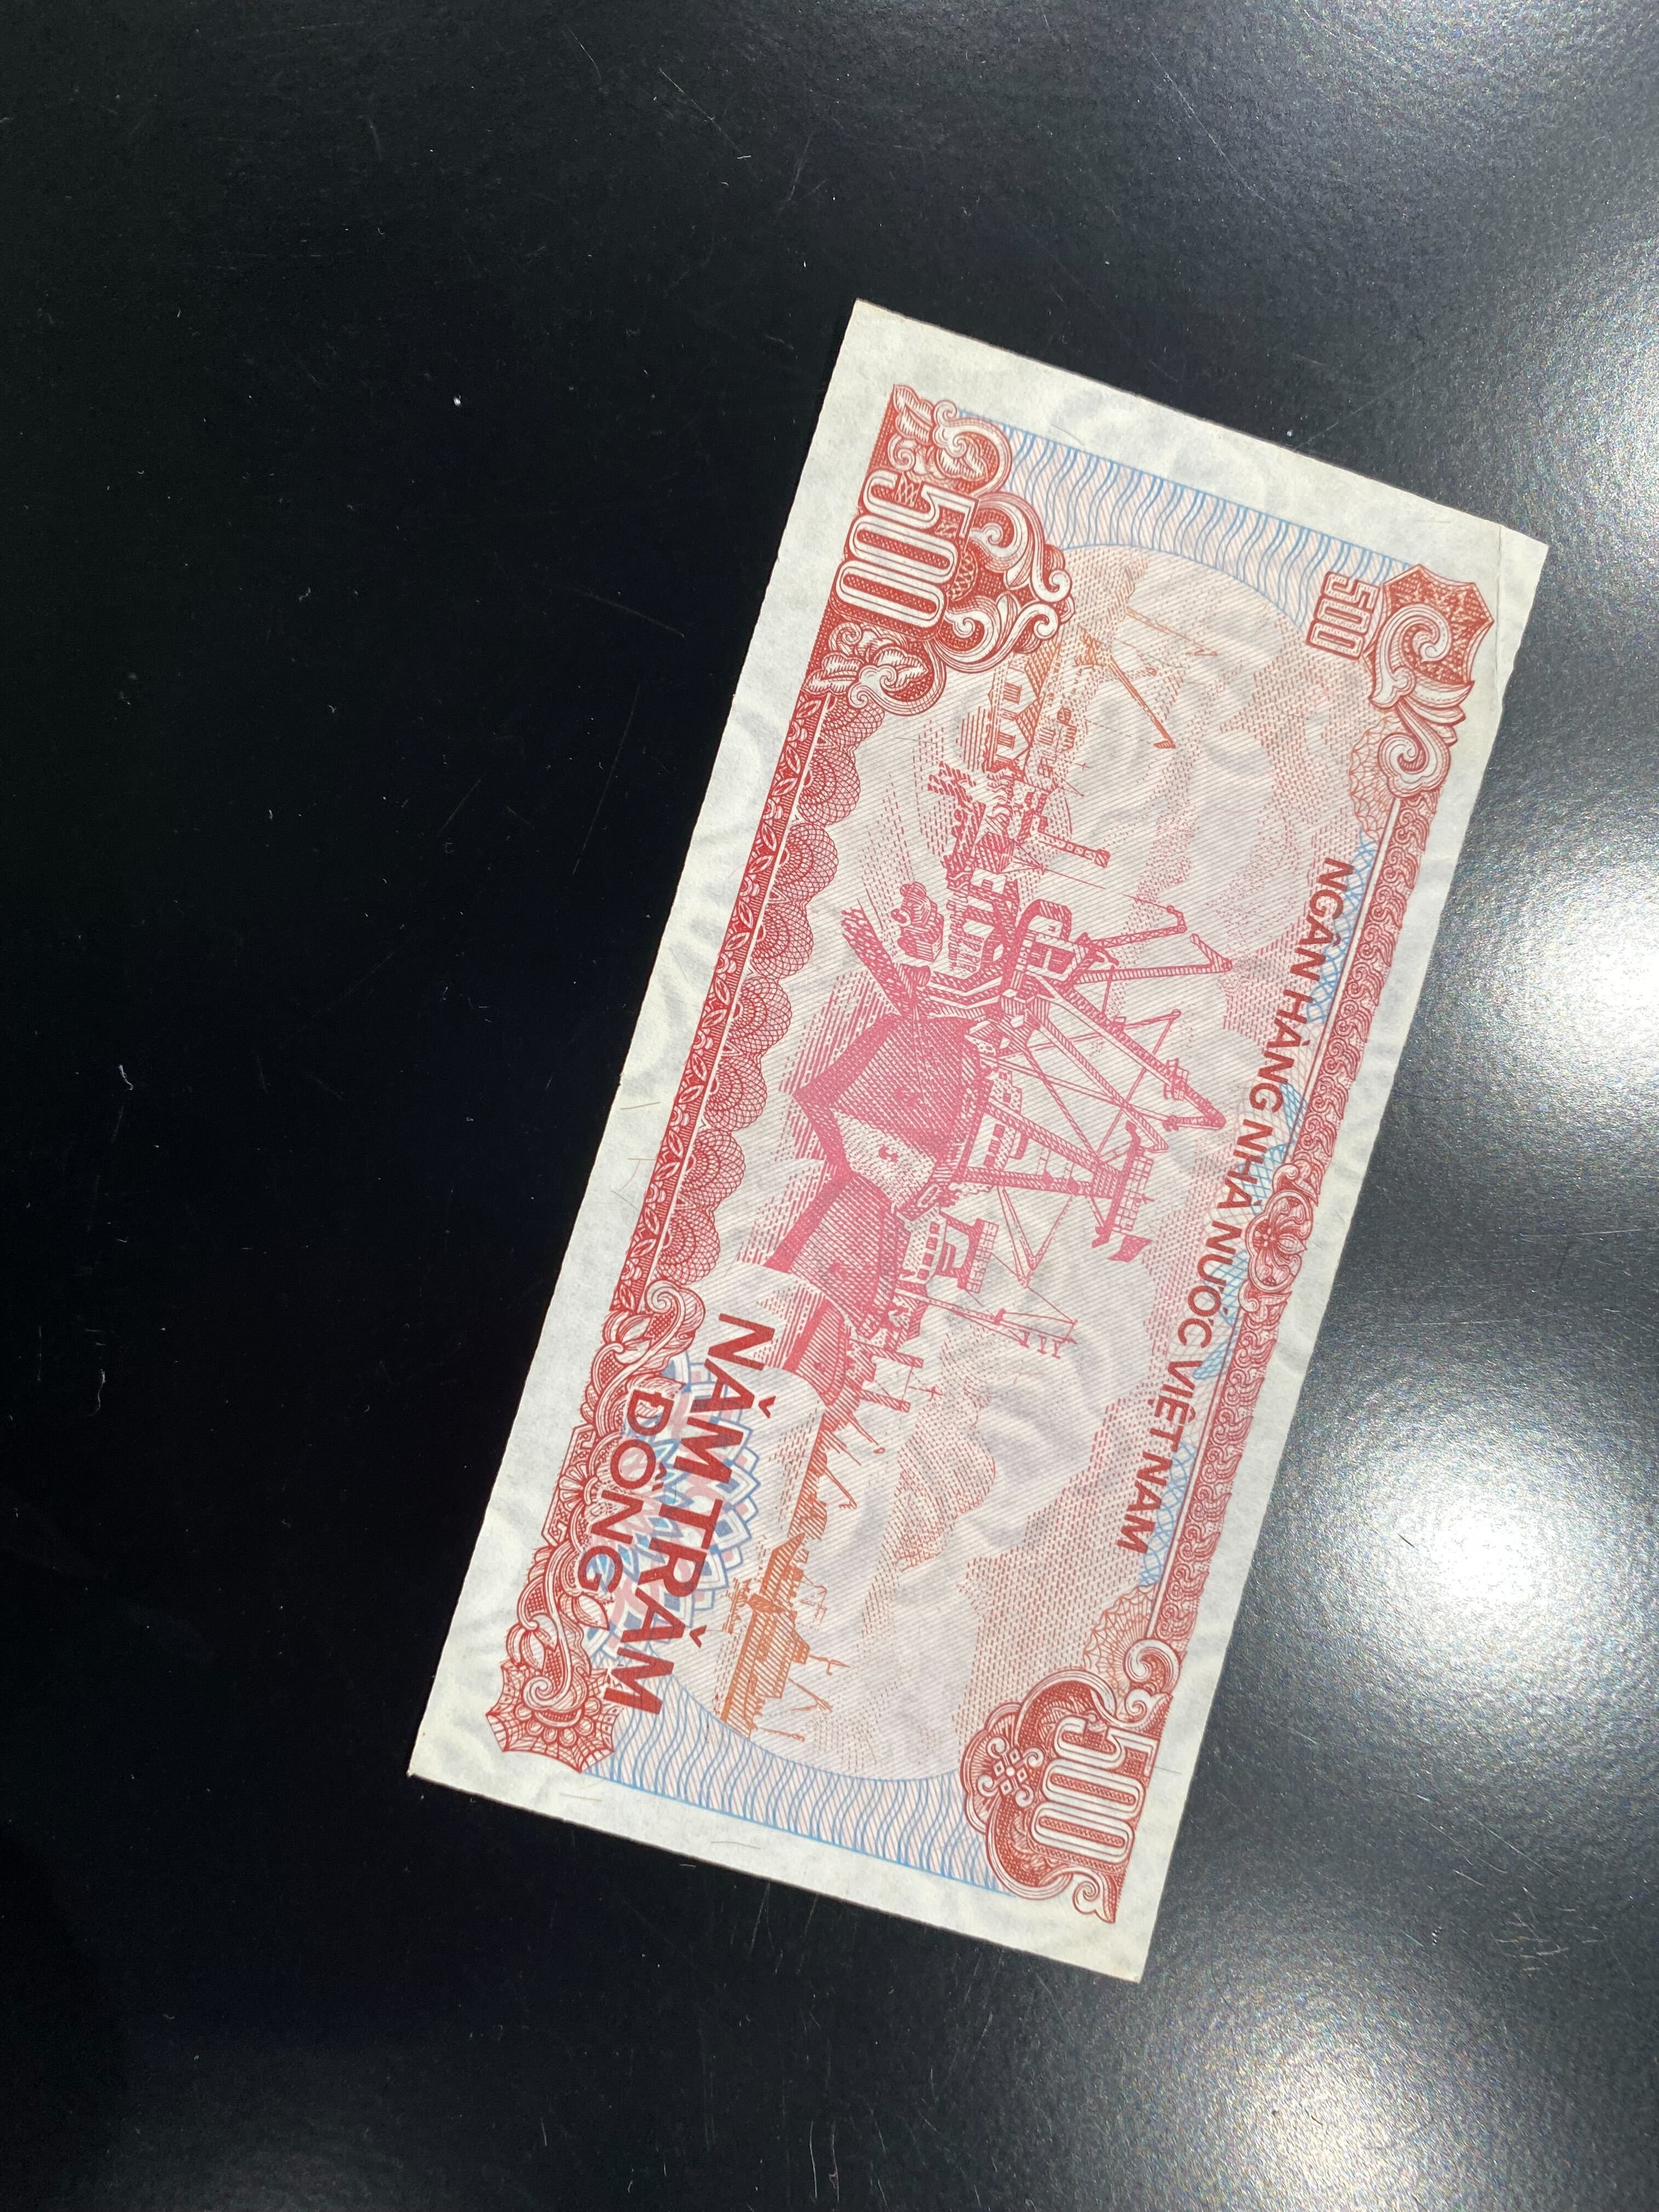500vnd: (422, 303, 1549, 2000)
